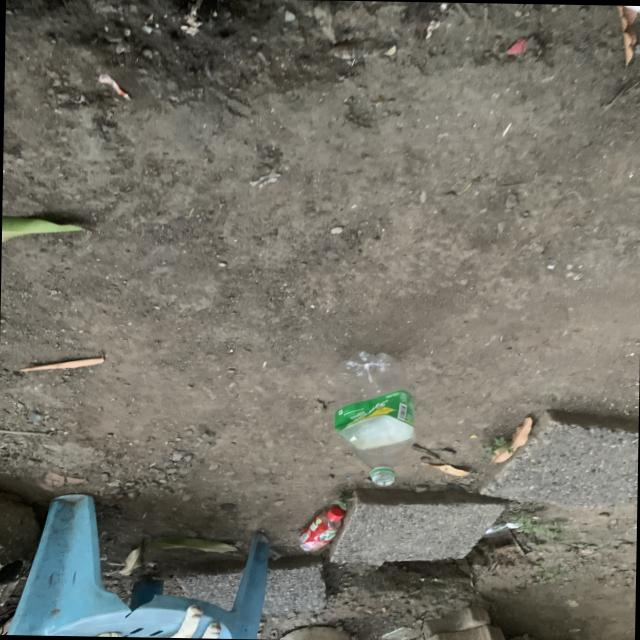Bottle: (334, 350, 416, 486)
